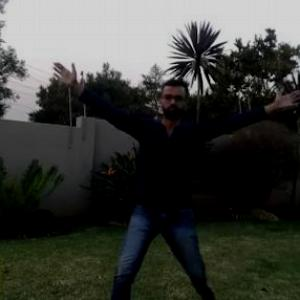takeoff: (71, 69, 299, 295)
